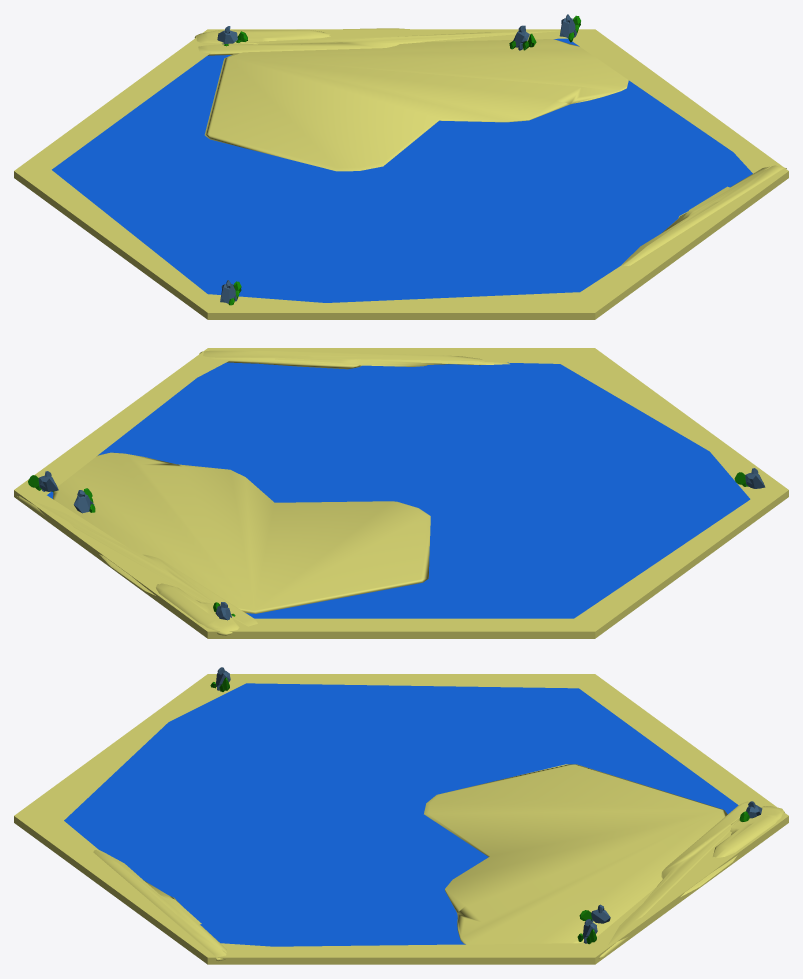
The model's file is Ressource Eau.fbx.
3 renders of one model, top to bottom at view 1: azimuth 30°, elevation 25°; view 2: azimuth 150°, elevation 25°; view 3: azimuth 270°, elevation 25°, orthographic.
Visible parts, largest first — view 1: Mballe.003; view 2: Mballe.003; view 3: Mballe.003.
Part boxes in pixels (<box>): Mballe.003: <box>14,14,788,319</box>; Mballe.003: <box>14,348,788,638</box>; Mballe.003: <box>14,667,788,964</box>.
Bounding box in the file's own units: 1742 × 90.25 × 2000.
